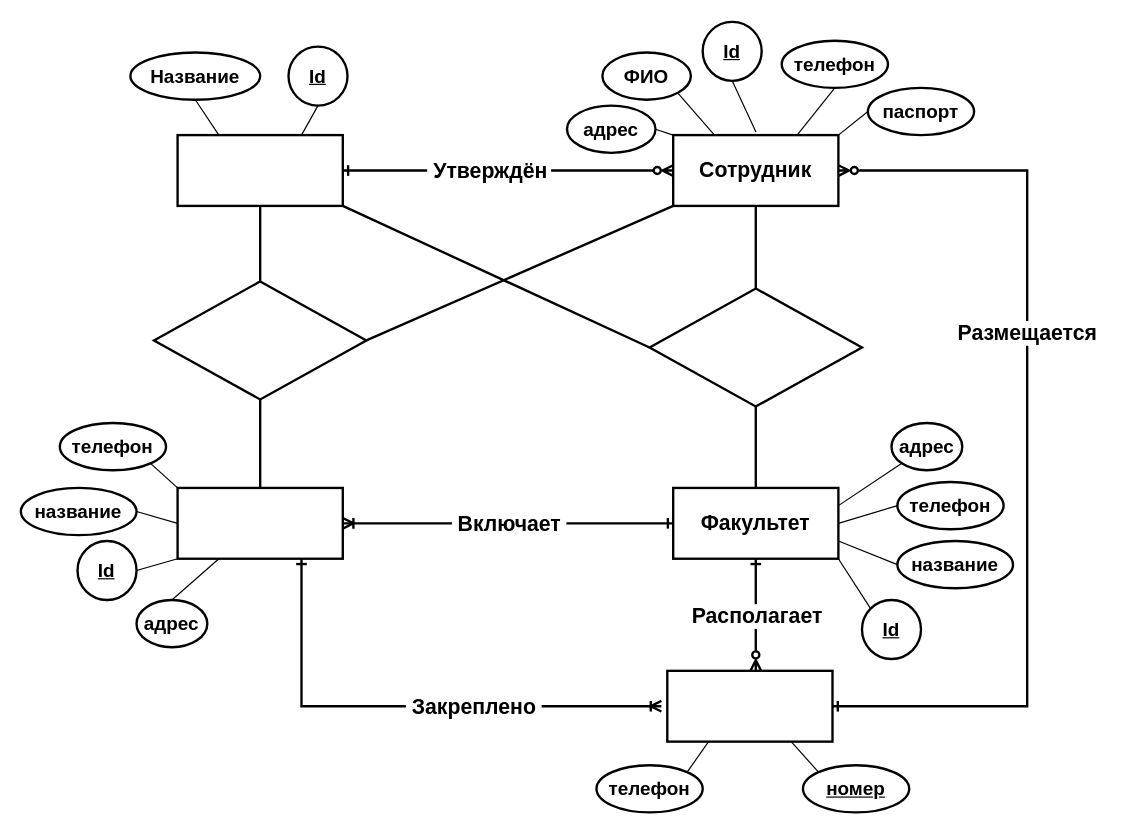
The diagram is 1123 pixels wide and 833 high, and some of its shapes have lost their labels. The shapes that lost their labels are listed below. From the top down, each one's box as (x1, y1, x2, y2) in pixels, then its label:
(176, 133, 343, 206): Должность
(152, 280, 367, 400): Зачислен
(648, 287, 863, 407): Трудоустроен
(176, 486, 343, 559): Кафедра
(666, 669, 833, 742): Помещение
